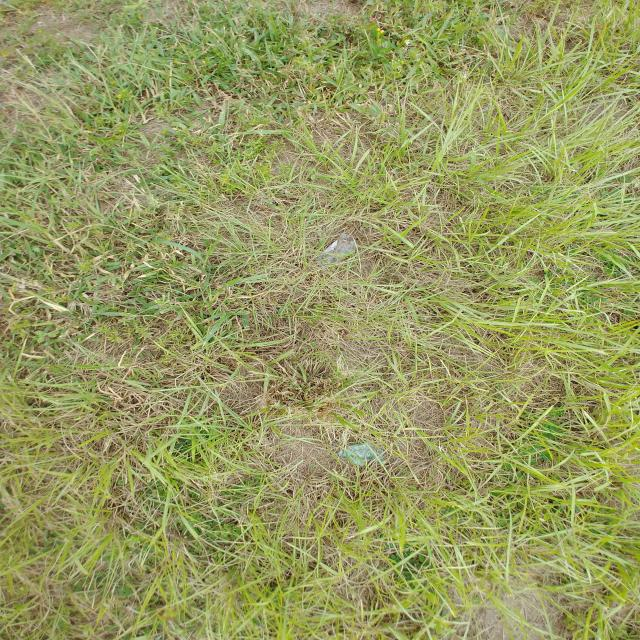litter: (313, 231, 358, 270), (340, 441, 387, 467)
